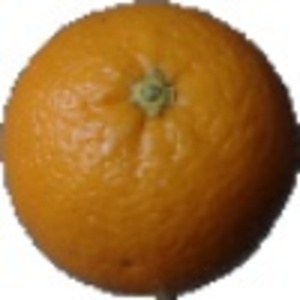laranja: (3, 3, 294, 297)
